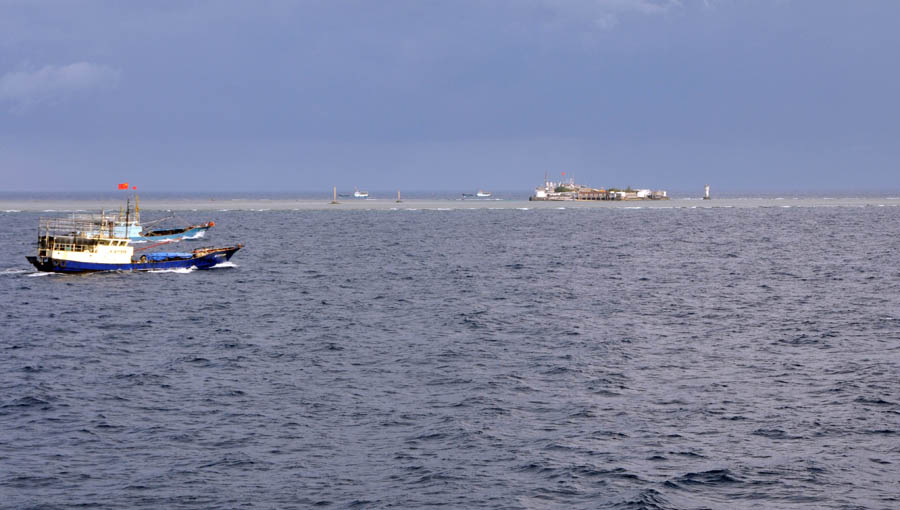otherboat: (23, 200, 243, 278), (80, 196, 219, 242)
